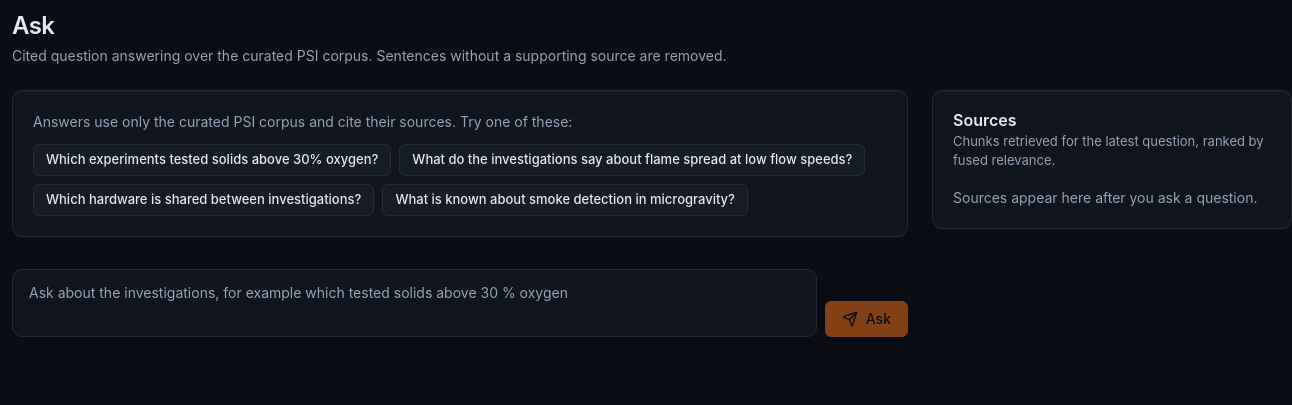
Ask page /ask (doc 10 section 5, CF-09) › FR-15: data state replaces the draft with verified sentences and citation chips
Replace the text in the text box with test id "ask-input" with "Which experiments tested solids above 30% oxygen?": [414, 303] box [12,269,817,337]
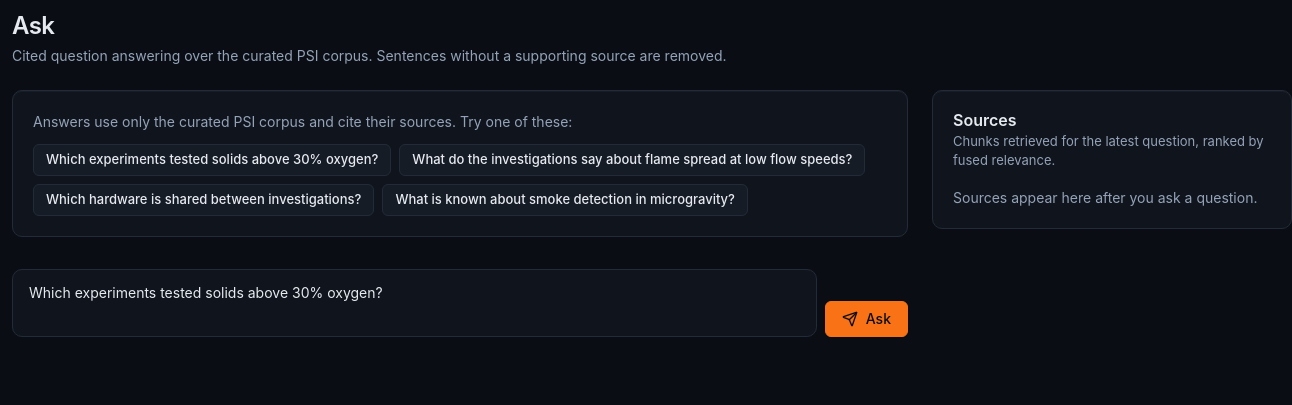
Click the button "Ask": [866, 319] box [825,301,908,337]
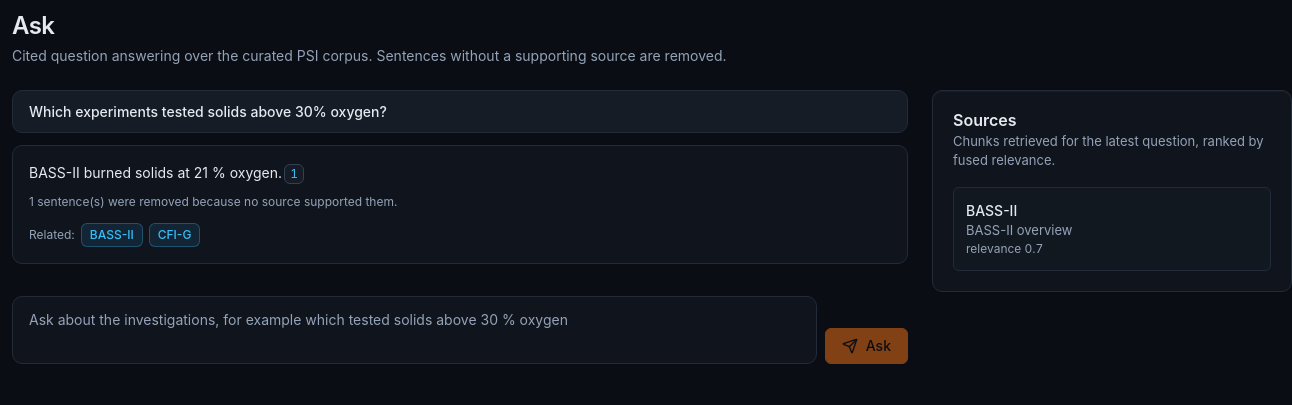
Check: the text "BASS-II burned solids at 21 % oxygen." is shown, box [29,164,282,181]
Check: the text "1 sentence(s) were removed because no source supported them." is shown, box [29,194,397,208]
Check: the link "CFI-G" is shown, box [149,222,200,246]
Click the button with test id "citation-chip": [294, 174] box [284,164,304,184]
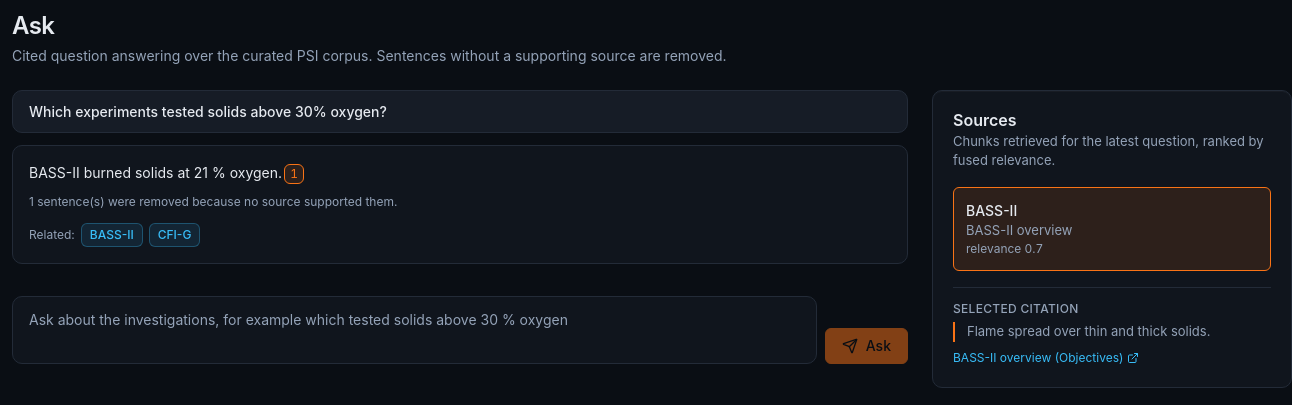
Check: the text "Flame spread over thin and thick solids." is shown, box [953,322,1271,342]
